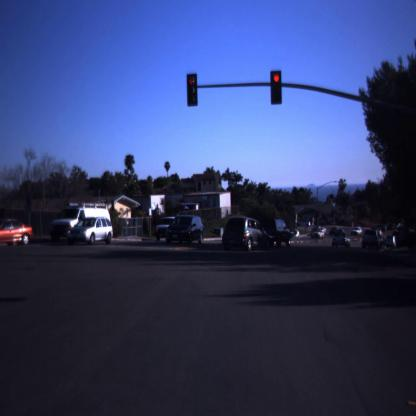trafficlight: (268, 67, 285, 107), (184, 70, 200, 106)
